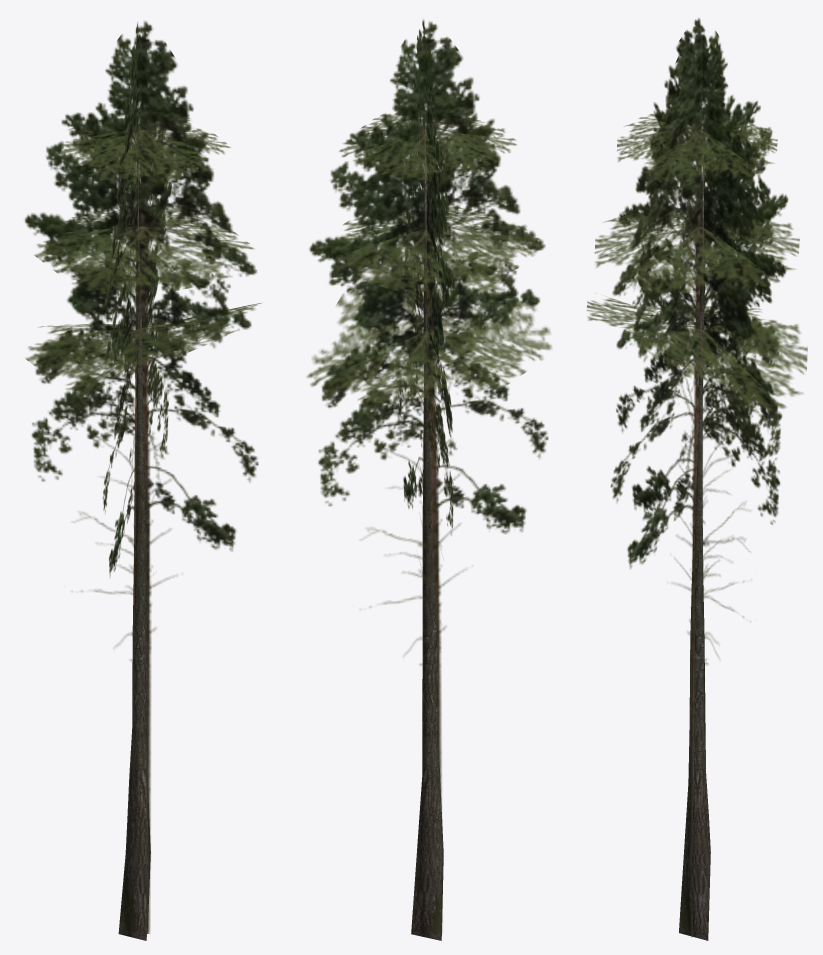
The model's file is Oak_585.gltf.
3 views of the same model, side by side, from view 1: azimuth 30°, elevation 25°; view 2: azimuth 150°, elevation 25°; view 3: azimuth 270°, elevation 25° (orthographic).
Parts seen in each view (by area): view 1: Oak_585; view 2: Oak_585; view 3: Oak_585.
Part boxes in pixels (x1,y1,x2,y2): Oak_585: [24, 21, 261, 940]; Oak_585: [307, 19, 551, 940]; Oak_585: [586, 18, 807, 940].
Size of the model in its own units: 6.86 by 31.12 by 6.86.
2 materials, 2 textured.
